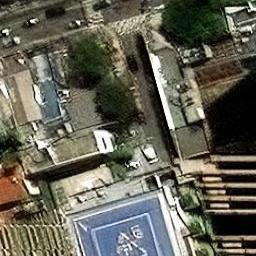heliponto: (93, 213, 161, 255)
